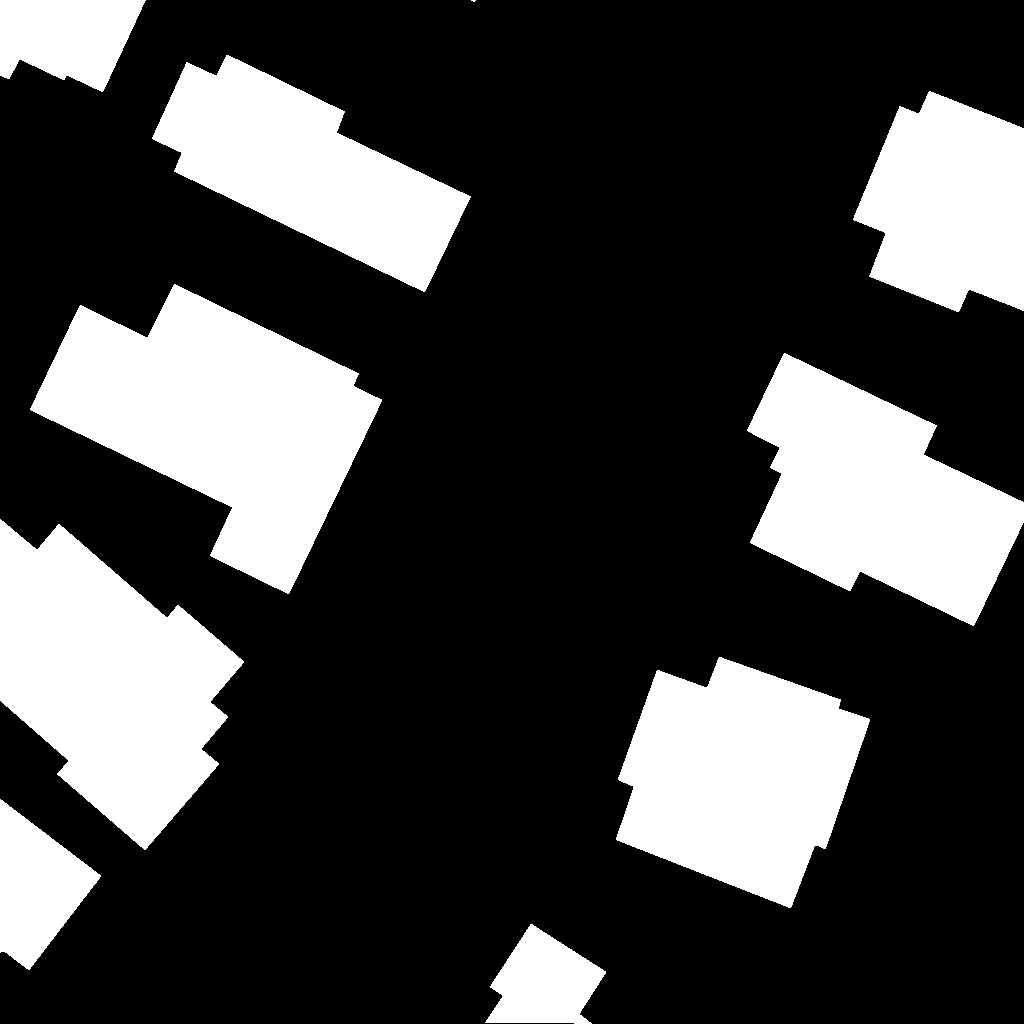building: (30, 284, 383, 595), (0, 519, 245, 851), (152, 55, 472, 293), (747, 353, 1024, 627), (616, 657, 871, 909), (853, 91, 1024, 313), (0, 799, 102, 971), (0, 0, 147, 93), (485, 924, 607, 1024), (470, 0, 477, 3)
